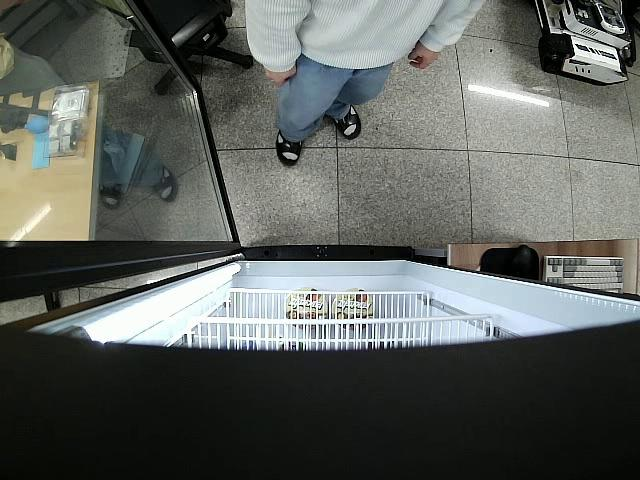00_hand: (408, 41, 439, 70), (264, 66, 299, 84)
